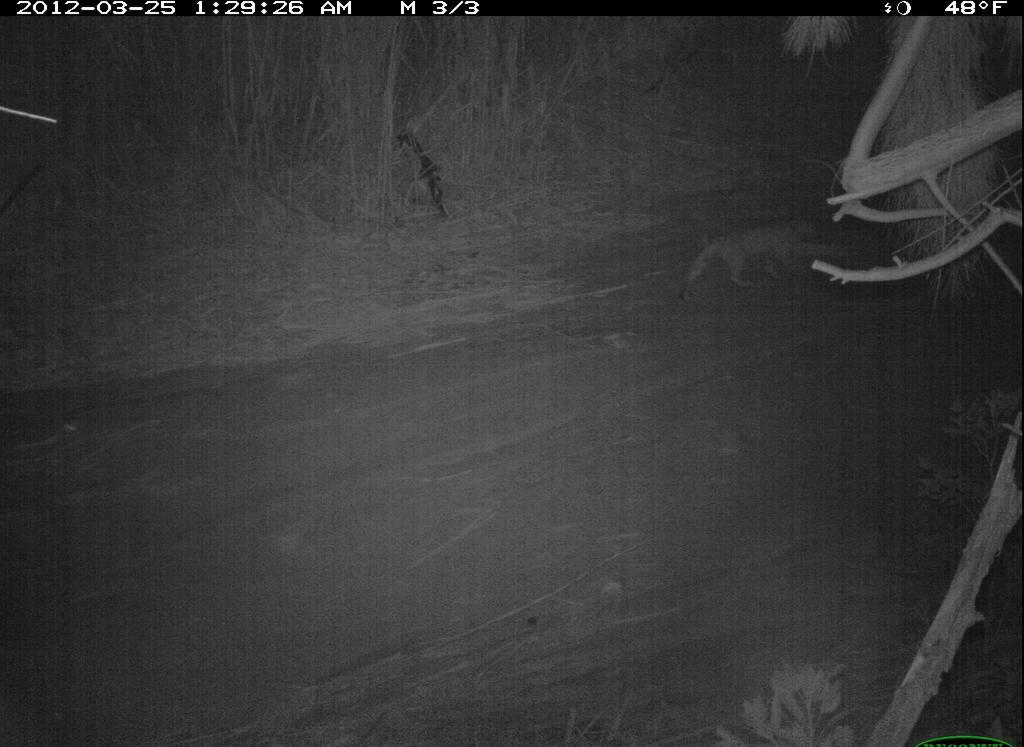bobcat: (651, 214, 841, 309)
